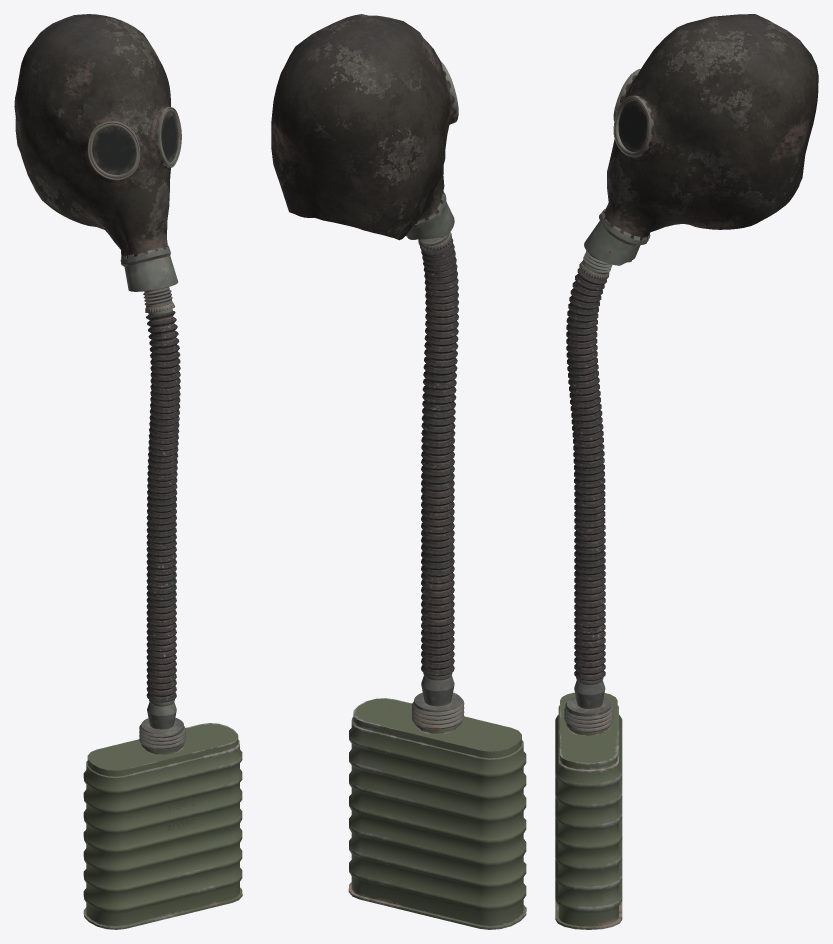
The model's file is old_gas_mask.glb.
3 renders of one model, left to right at view 1: azimuth 30°, elevation 25°; view 2: azimuth 150°, elevation 25°; view 3: azimuth 270°, elevation 25°, orthographic. The views are drawn at different scales.
Parts seen in each view (by area): view 1: old_gas_mask; view 2: old_gas_mask; view 3: old_gas_mask.
Boxes of the visible parts, bbox=[...] form: old_gas_mask: bbox=[14, 14, 242, 929]; old_gas_mask: bbox=[271, 14, 526, 929]; old_gas_mask: bbox=[555, 14, 818, 929].
Size of the model in its own units: 0.2105 by 1.13 by 0.3087.
1 material, 1 textured.
